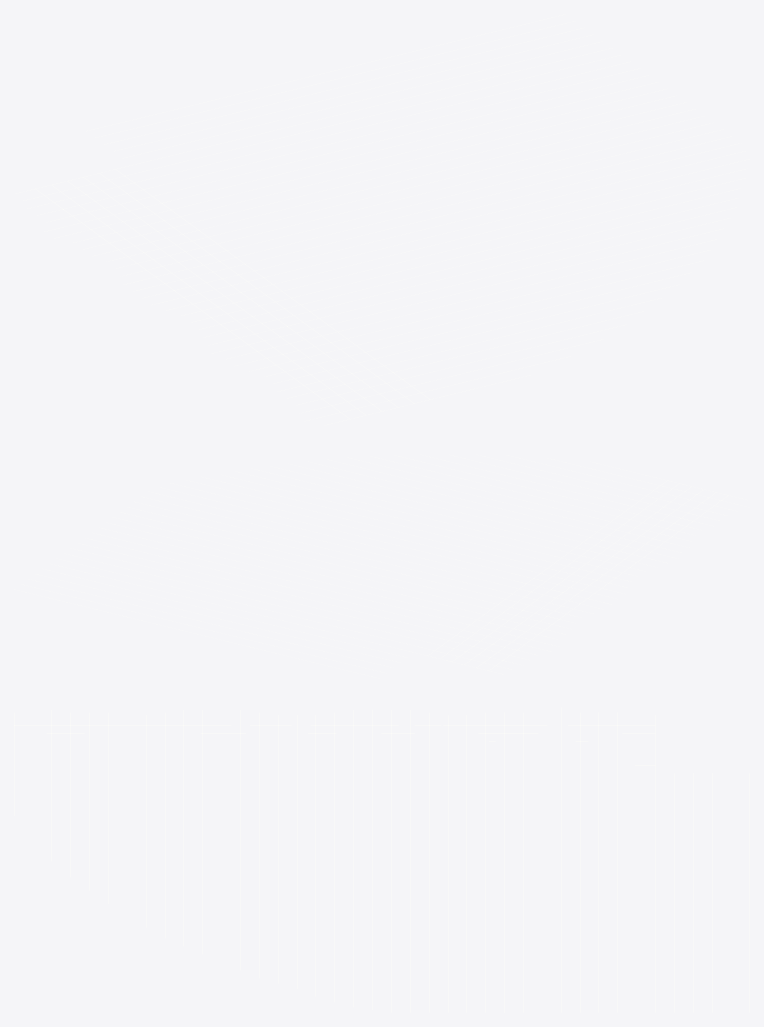
The model's file is SM_RiyadhNights_Far_Streets_2.fbx.
The picture shows the model from 3 angles, top to bottom: view 1: azimuth 30°, elevation 25°; view 2: azimuth 150°, elevation 25°; view 3: azimuth 270°, elevation 25°; orthographic projection. The views are drawn at different scales.
Visible parts, largest first — view 1: SM_RiyadhNights_Far_Streets_2; view 2: SM_RiyadhNights_Far_Streets_2; view 3: SM_RiyadhNights_Far_Streets_2.
Part boxes in pixels (x1,y1,x2,y2): SM_RiyadhNights_Far_Streets_2: [16, 14, 749, 424]; SM_RiyadhNights_Far_Streets_2: [14, 455, 742, 676]; SM_RiyadhNights_Far_Streets_2: [14, 707, 749, 1012].
Bounding box in the file's own units: 690000 × 578 × 702280.
